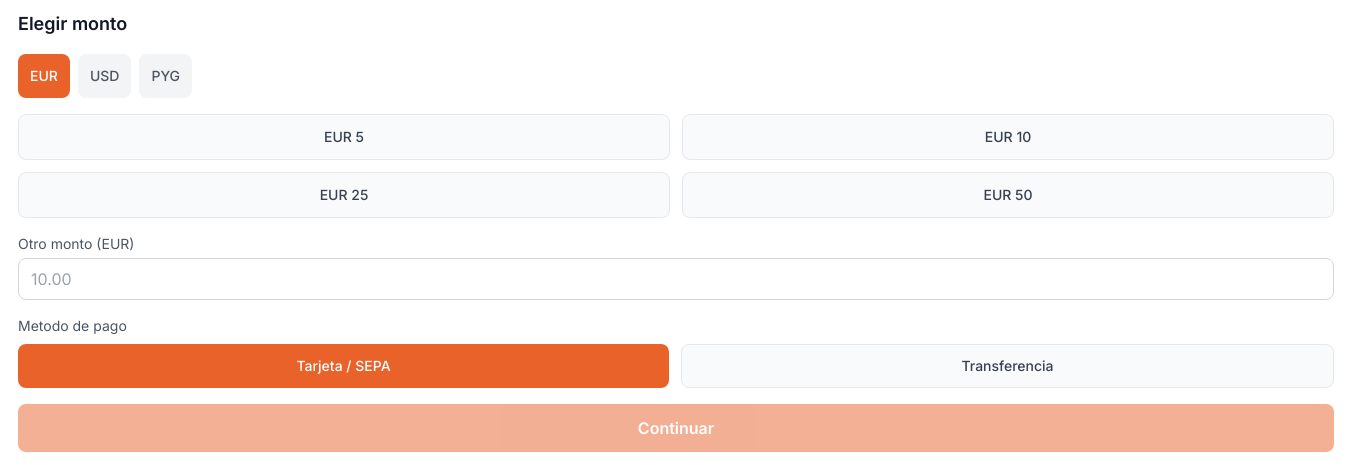
Test: DonationForm — details step › shows name and email fields when not anonymous
Type "10" into the number field at (676, 279), box left=18, top=258, right=1334, bottom=300
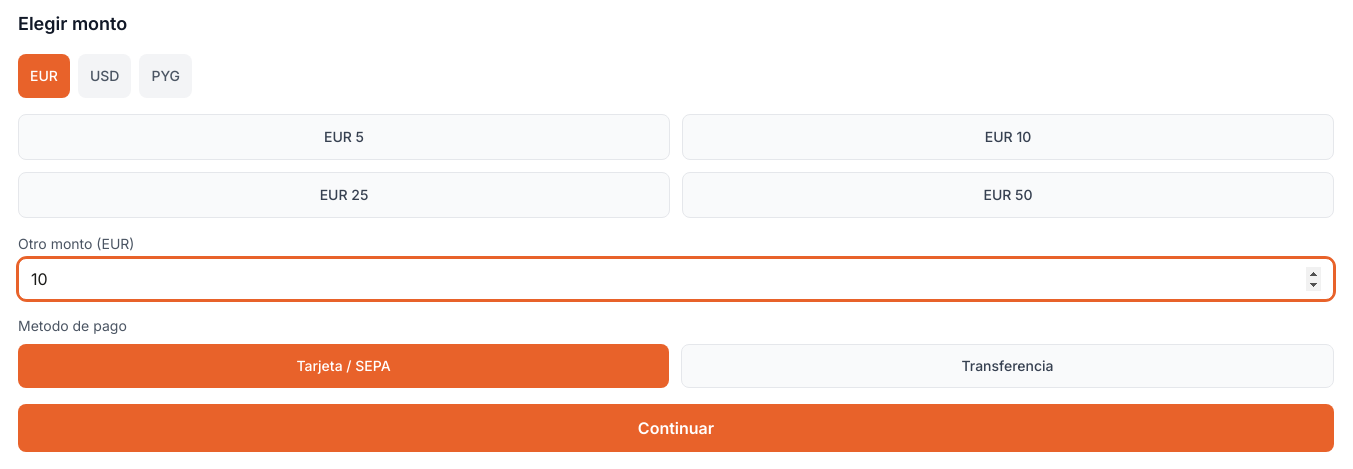
Click the button "Continuar" at (676, 428), box left=18, top=404, right=1334, bottom=452
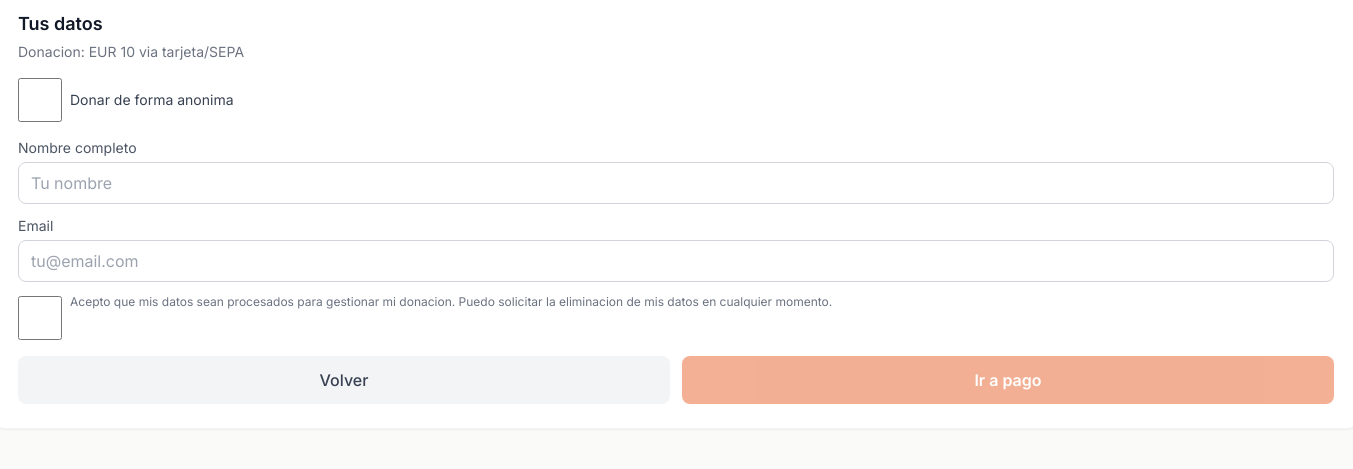
Result: the field with placeholder "Tu nombre" is shown at left=18, top=162, right=1334, bottom=204
Result: the field with placeholder "tu@email.com" is shown at left=18, top=240, right=1334, bottom=282
